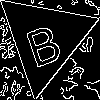B: (20, 14, 64, 69)
